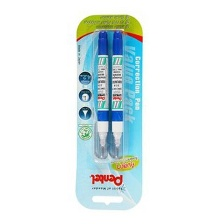correction_fluid: (91, 29, 112, 163), (107, 28, 126, 162)
